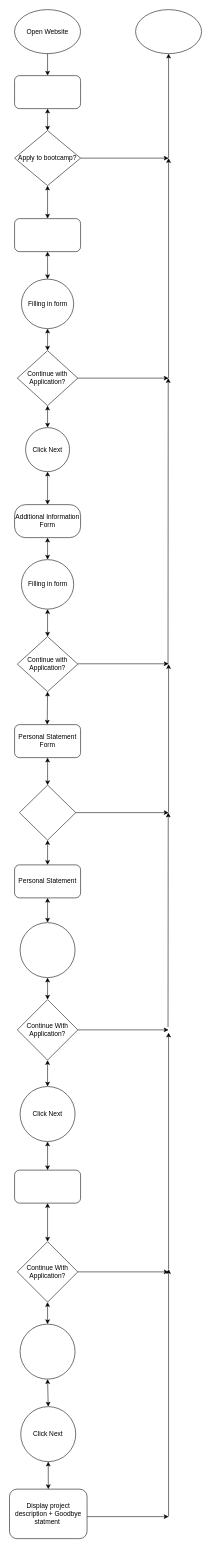
This 212x1548 diagram has some shape labels left out. The shapes that lost their labels are listed below. From the top down, each one's centre as x and y in pixels, then its label:
point (168, 31): Quit Application
point (47, 92): Welcome Message/Landing Page
point (47, 235): Basic Information Form
point (47, 812): Continue with Appicaltion?
point (47, 950): Fill in Personal Statement
point (47, 1186): Q/A Page
point (47, 1351): Answer Q/A's
